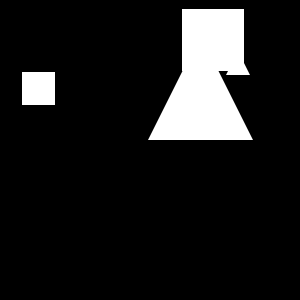circle: (182, 9, 244, 71), (22, 72, 55, 105)
triangle: (148, 35, 253, 140), (226, 51, 250, 75)
